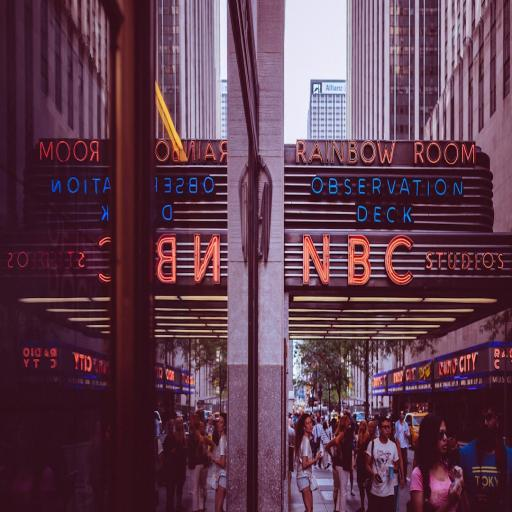face: (482, 408, 497, 433), (437, 421, 448, 454), (379, 420, 391, 438), (302, 415, 314, 433), (368, 423, 376, 436), (399, 408, 405, 421)
